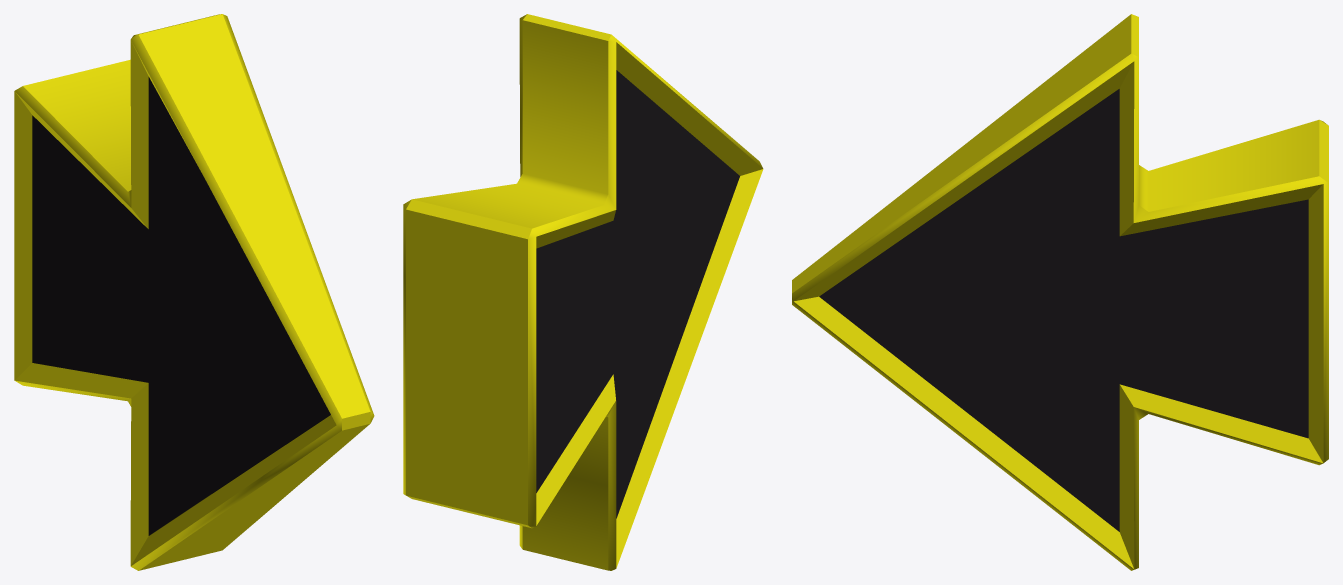
Rendered from Arrow.glb.
3 renders of one model, left to right at view 1: azimuth 30°, elevation 25°; view 2: azimuth 150°, elevation 25°; view 3: azimuth 270°, elevation 25°, orthographic. The views are drawn at different scales.
Parts seen in each view (by area): view 1: arrow_a_whole.2; view 2: arrow_a_whole.2; view 3: arrow_a_whole.2.
Boxes of the visible parts, <box> form: arrow_a_whole.2: <box>14,14,374,570</box>; arrow_a_whole.2: <box>403,14,763,570</box>; arrow_a_whole.2: <box>792,14,1328,570</box>.
Bounding box in the file's own units: 0.000476 × 0.00184 × 0.00173.
Materials: 1 (1 with a texture image).
